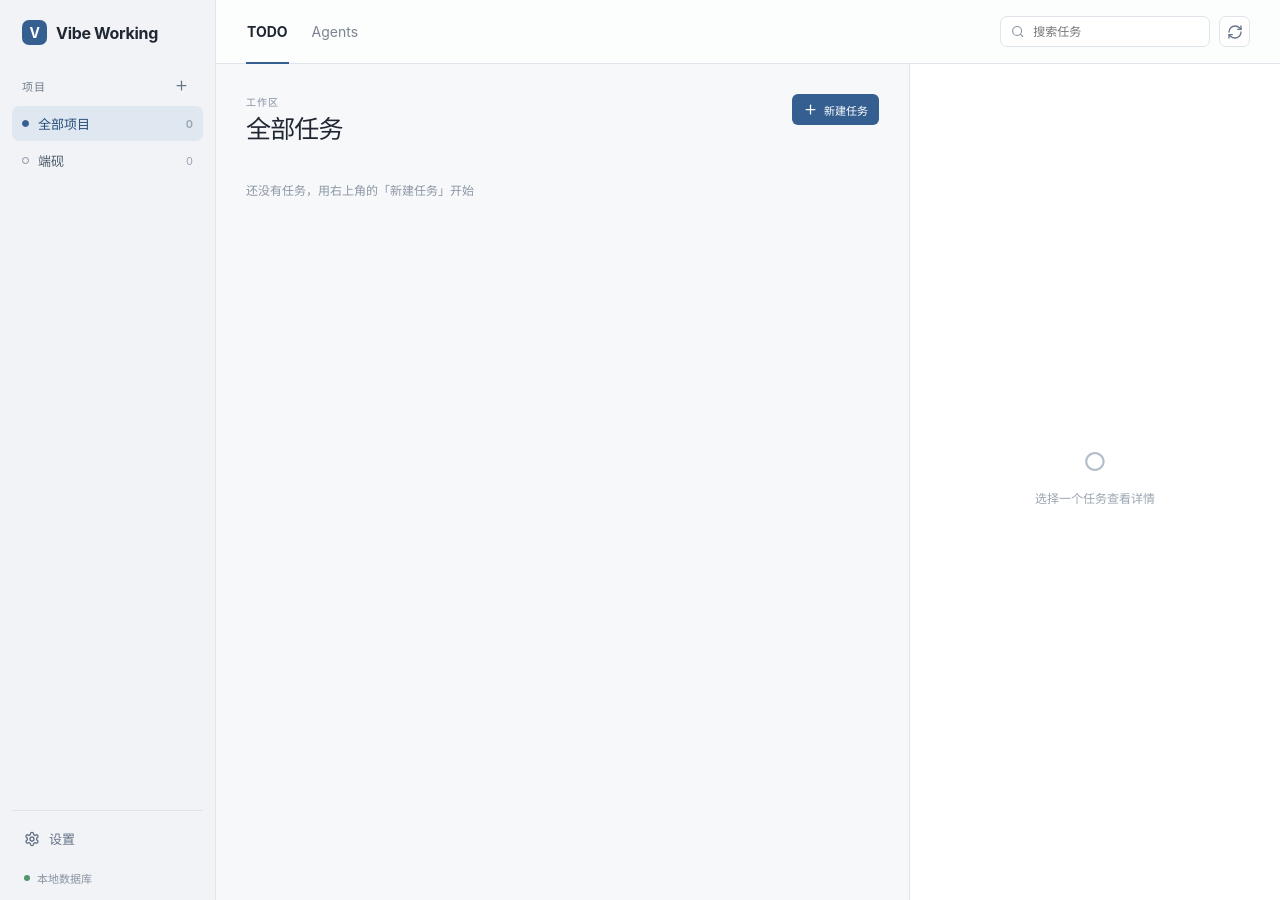
Test: running agents › shows only the selected project's sessions
Click the button with class "tab" showing "Agents": (335, 32) x1=311 y1=0 x2=359 y2=63
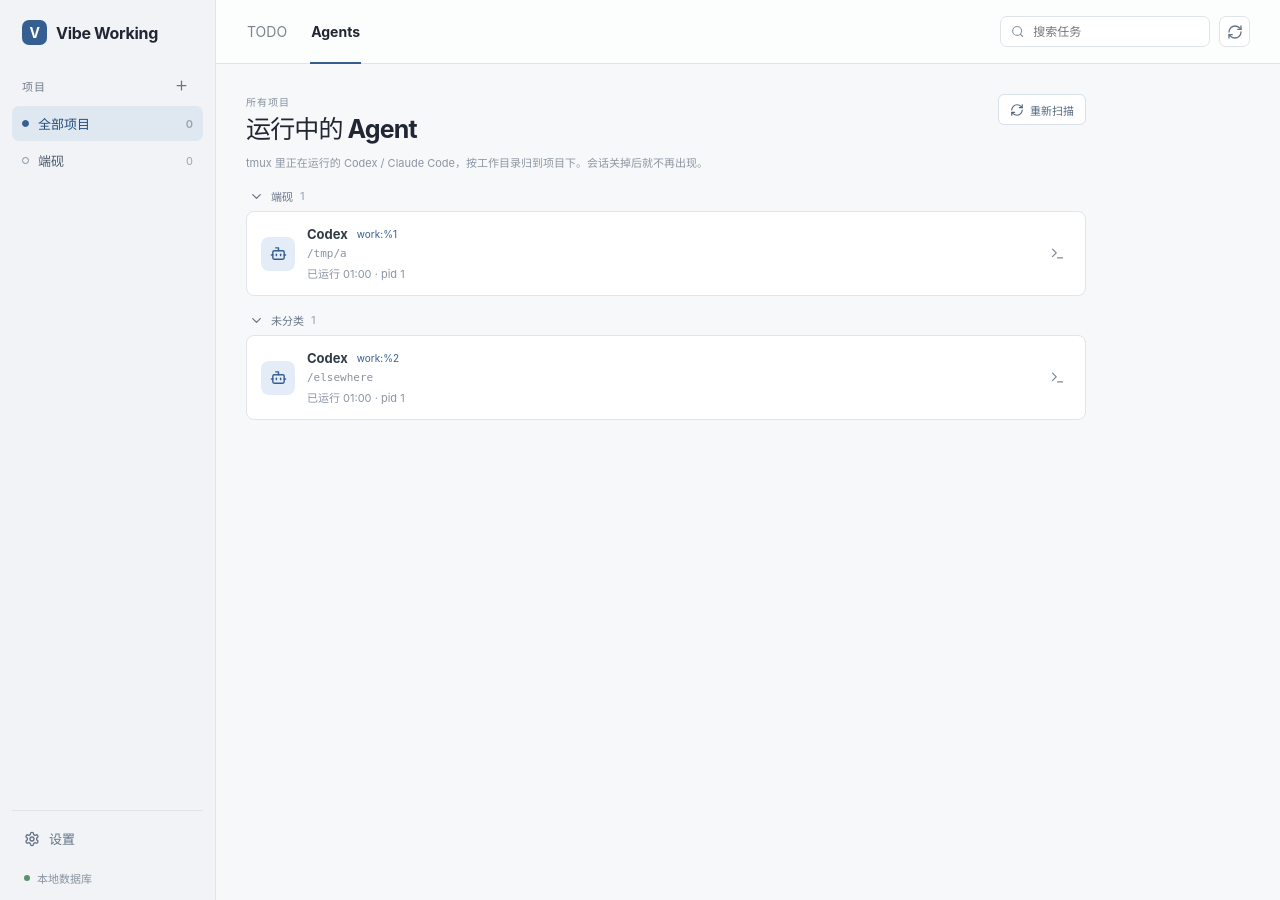
Click the button "端砚 0": (108, 160) x1=12 y1=143 x2=203 y2=178
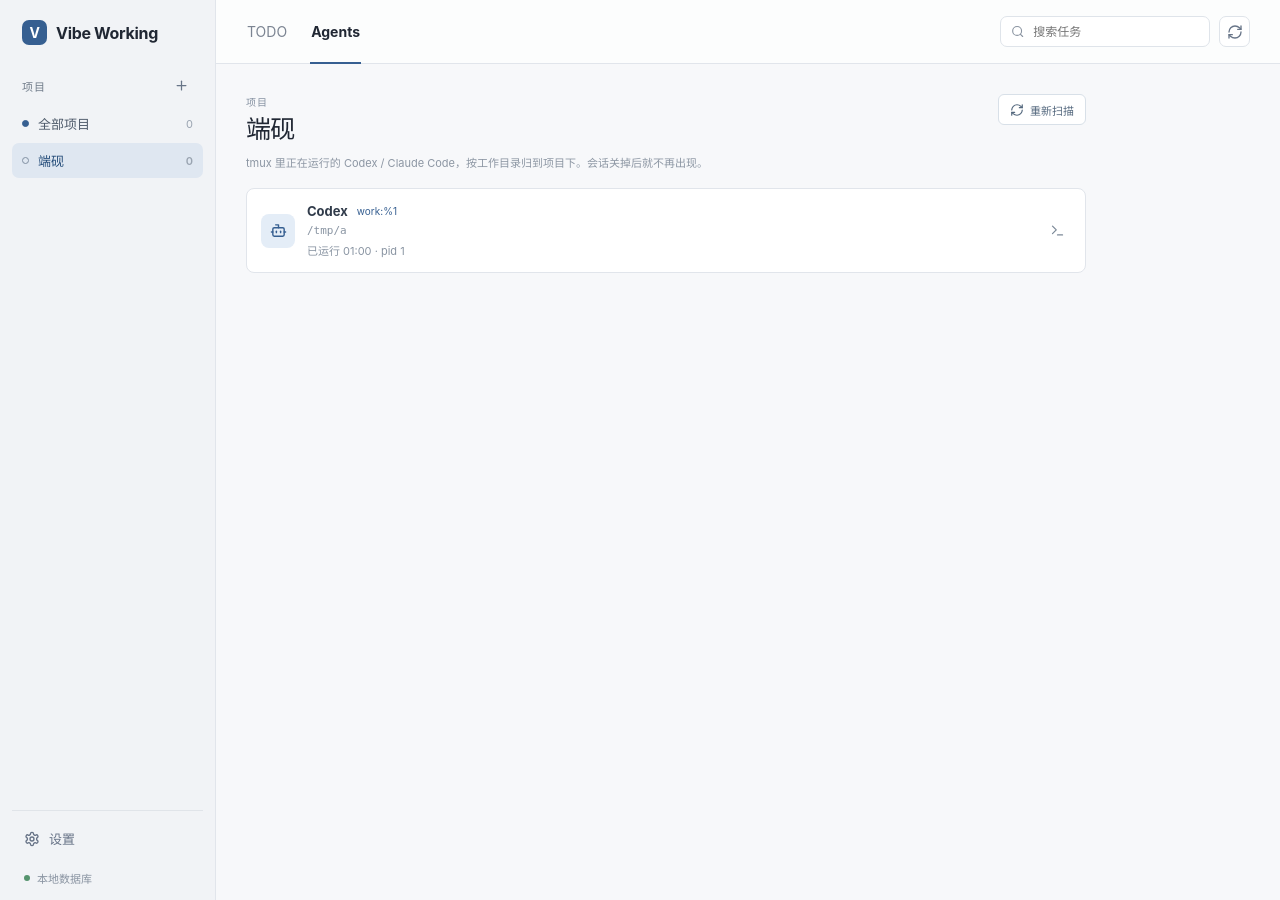
Now the element with class "agent-row" shows "/tmp/a", box x1=307 y1=224 x2=347 y2=237
Now no buttons with class "group-heading" are shown
